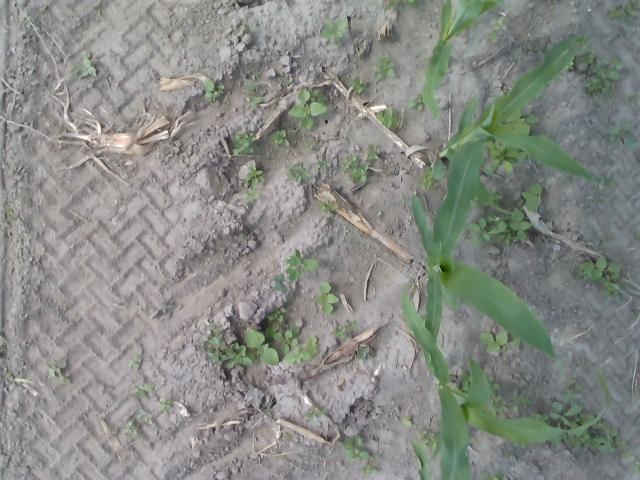Maize: (408, 139, 569, 384), (398, 288, 610, 460), (429, 35, 605, 190), (420, 0, 500, 119), (409, 385, 471, 480)
Weeds: (529, 400, 634, 456), (198, 322, 255, 368), (464, 208, 531, 247), (574, 254, 624, 301), (264, 306, 300, 354), (289, 88, 327, 130), (584, 58, 622, 100), (483, 140, 528, 174), (244, 326, 280, 366), (502, 108, 540, 138), (338, 434, 378, 462), (283, 249, 318, 281), (478, 330, 520, 355), (284, 336, 318, 365), (606, 122, 638, 150), (314, 282, 340, 314), (232, 131, 266, 155), (243, 164, 264, 202), (340, 155, 369, 182), (517, 182, 543, 212), (607, 0, 640, 22), (320, 18, 348, 43), (72, 50, 96, 79), (468, 188, 502, 207), (242, 78, 262, 108), (376, 106, 400, 129), (418, 164, 439, 190), (284, 162, 311, 182), (512, 388, 532, 414), (374, 54, 394, 80), (330, 319, 357, 338), (128, 382, 156, 400), (621, 449, 640, 475), (202, 80, 224, 102), (488, 16, 506, 42), (560, 379, 582, 400), (270, 128, 292, 147), (416, 430, 436, 448), (303, 407, 327, 422), (315, 198, 337, 214), (490, 395, 508, 414), (506, 440, 526, 457), (407, 92, 425, 110), (346, 74, 364, 92), (458, 368, 470, 394), (273, 272, 287, 294), (592, 229, 609, 247), (48, 366, 66, 383), (486, 374, 499, 395), (365, 144, 382, 160), (122, 420, 138, 436), (358, 464, 378, 476), (598, 174, 615, 188), (4, 203, 16, 222), (481, 470, 503, 480), (355, 346, 371, 359), (582, 52, 596, 66), (316, 158, 332, 170), (136, 411, 152, 422), (382, 0, 398, 11), (160, 396, 172, 410), (128, 358, 140, 372), (562, 55, 574, 69), (6, 372, 24, 380), (304, 138, 316, 150), (282, 430, 294, 440), (402, 0, 418, 7), (402, 416, 412, 426), (276, 76, 288, 84), (632, 310, 640, 320), (245, 28, 255, 36), (533, 47, 543, 53), (628, 92, 638, 98), (634, 229, 640, 238), (435, 419, 441, 427), (635, 416, 640, 423)
